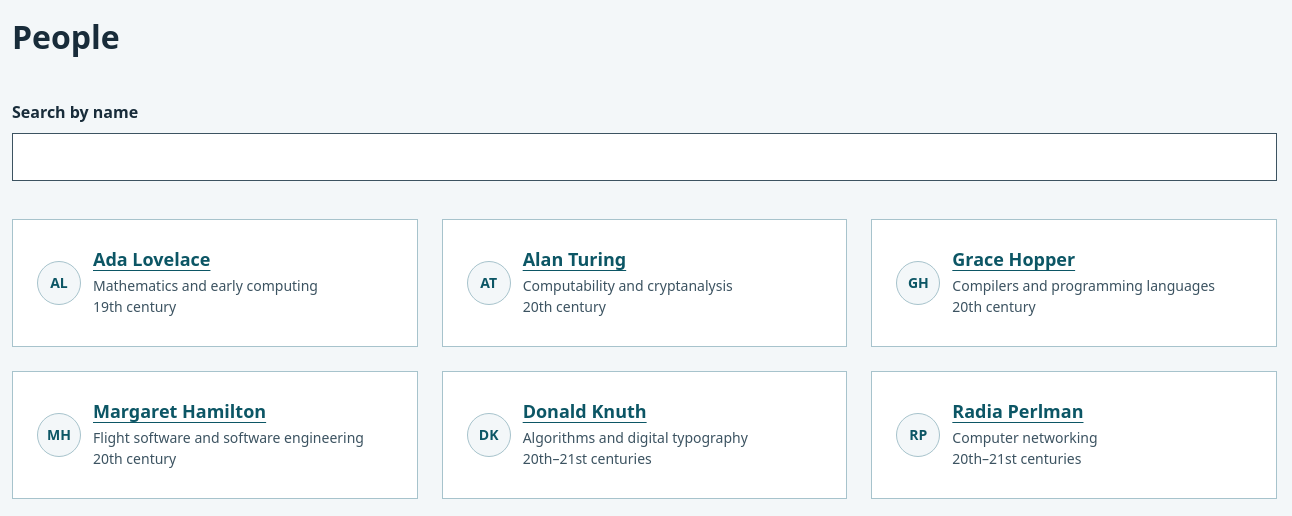
PeoplePage › announces the empty result and restores the list when the query changes
Type "no matching pioneer" into the search field labelled "Search by name" at [644, 157], box [12, 133, 1277, 181]
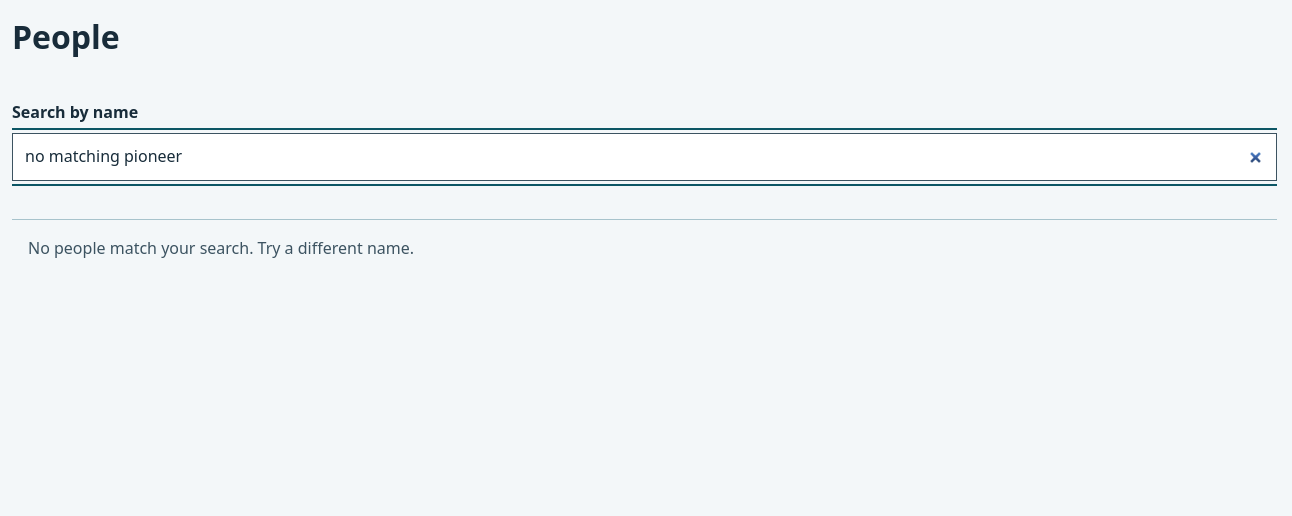
Now the message reads "No people match your search. Try a different name.", box [28, 237, 414, 259]
Clear the search field labelled "Search by name" at [644, 157], box [12, 133, 1277, 181]
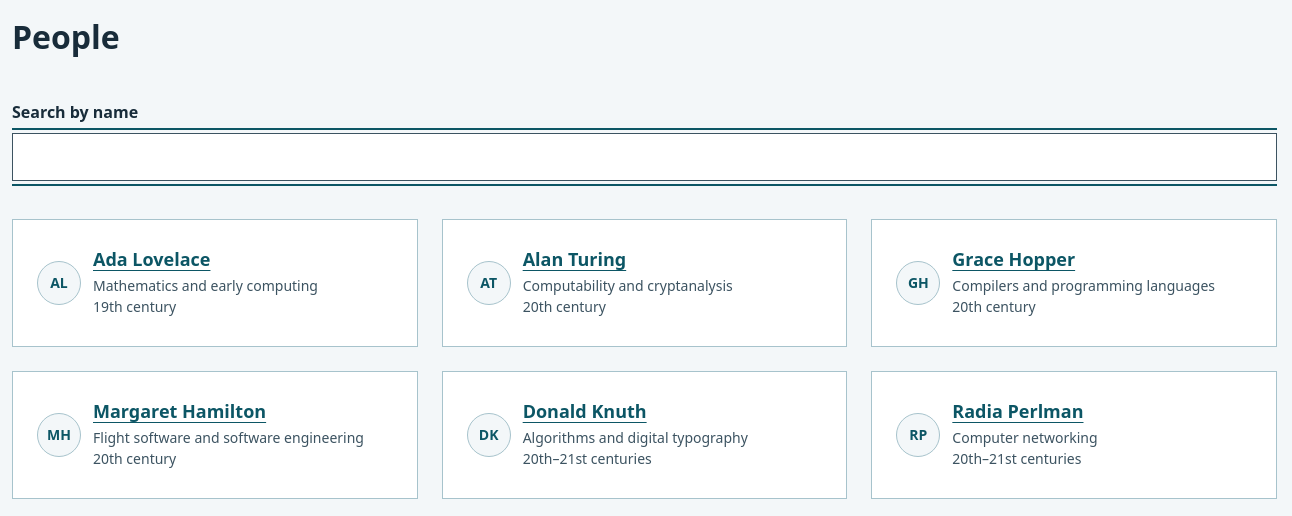
Now the number of links is 6, box [12, 219, 418, 347]; [442, 219, 847, 347]; [871, 219, 1277, 347]; [12, 371, 418, 499]; [442, 371, 847, 499]; [871, 371, 1277, 499]
